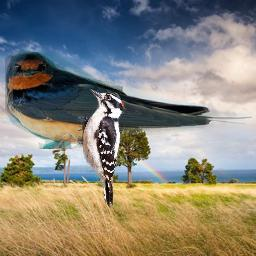Swallow: (0, 47, 253, 149)
Woodpecker: (77, 89, 125, 210)
